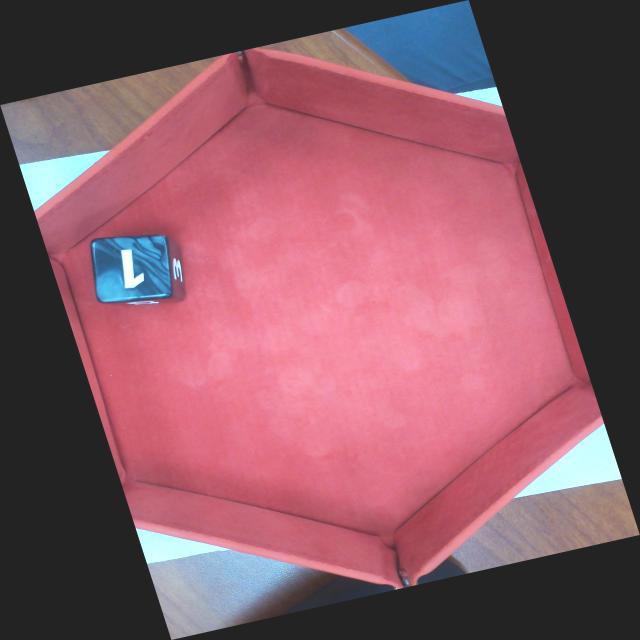dice: (90, 241, 172, 301)
